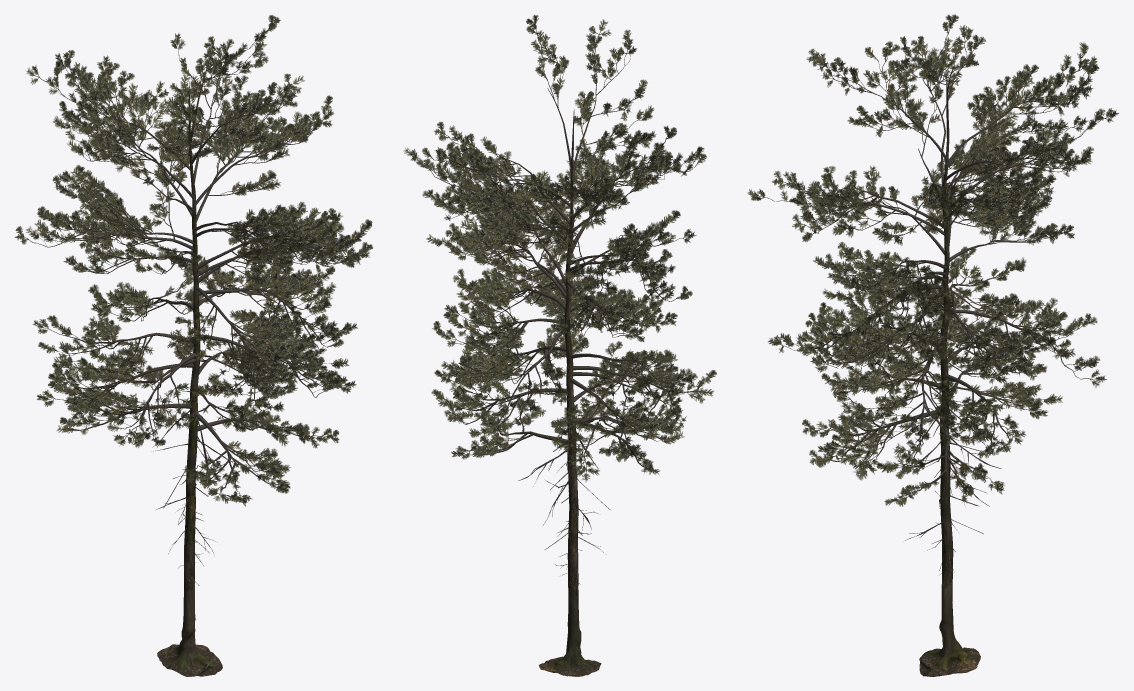
The model's file is pine-young.glb.
The picture shows the model from 3 angles, left to right: view 1: azimuth 30°, elevation 25°; view 2: azimuth 150°, elevation 25°; view 3: azimuth 270°, elevation 25°; orthographic projection. The views are drawn at different scales.
Parts seen in each view (by area): view 1: LOD0_1, LOD1_1, LOD0_3, LOD0_2, LOD1_2, LOD0_0; view 2: LOD0_1, LOD1_1, LOD0_3, LOD0_2, LOD1_2, LOD0_0; view 3: LOD0_1, LOD1_1, LOD0_3, LOD0_2, LOD1_2, LOD0_0.
Part boxes in pixels (<box>): LOD0_1: <box>15,15,372,505</box>; LOD1_1: <box>15,15,372,505</box>; LOD0_3: <box>37,41,347,492</box>; LOD0_2: <box>157,124,222,676</box>; LOD1_2: <box>157,124,222,676</box>; LOD0_0: <box>152,410,236,585</box>; LOD0_1: <box>403,15,716,481</box>; LOD1_1: <box>411,16,716,477</box>; LOD0_3: <box>425,48,694,469</box>; LOD0_2: <box>539,144,601,676</box>; LOD1_2: <box>539,150,600,676</box>; LOD0_0: <box>518,424,610,584</box>; LOD0_1: <box>748,14,1118,506</box>; LOD1_1: <box>751,15,1118,506</box>; LOD0_3: <box>774,46,1098,495</box>; LOD0_2: <box>919,111,980,676</box>; LOD1_2: <box>919,139,980,676</box>; LOD0_0: <box>905,408,1001,587</box>.
Bounding box in the file's own units: 5.83 × 12 × 6.14.
Materials: 4 (4 with a texture image).
